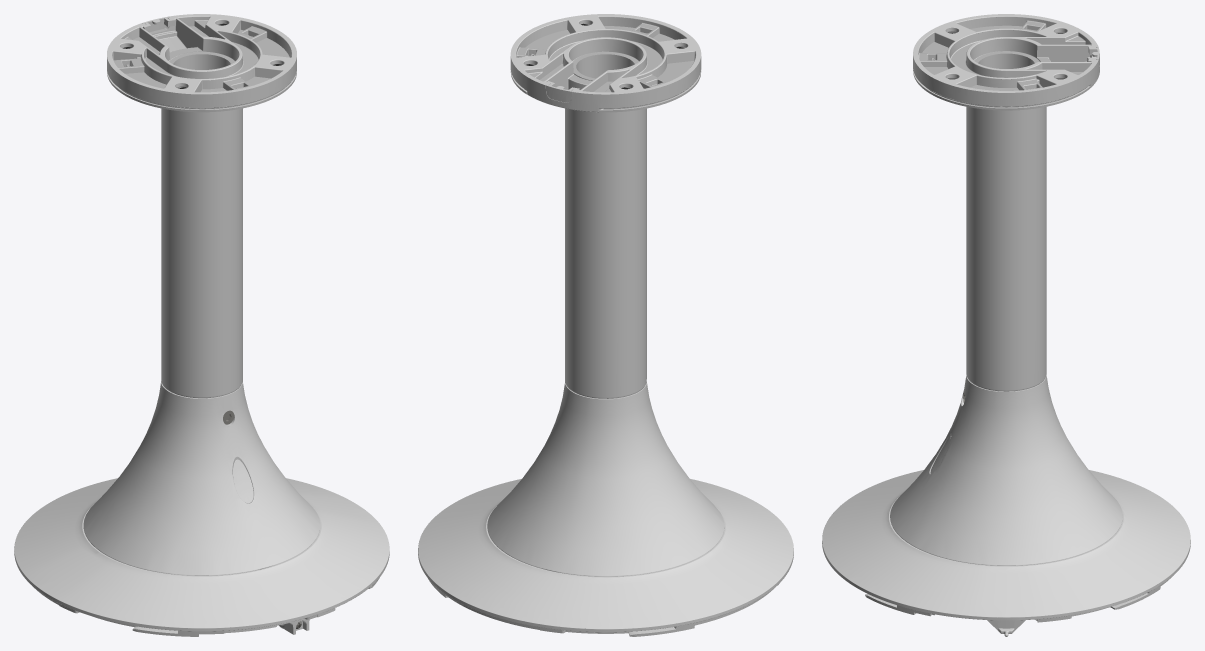
Rendered from uacc-ai-ms-4-pm.glb.
3 renders of one model, left to right at view 1: azimuth 30°, elevation 25°; view 2: azimuth 150°, elevation 25°; view 3: azimuth 270°, elevation 25°, orthographic.
Parts seen in each view (by area): view 1: CurvedCone, MetalAdapter, MetalPipe, MS_4_PM_METAL_WALL_COVER_20250901, BASE_BACK_POGO_UBNT_35_stp_STEP, top_deco_cover, Rubber Screw Hole Cap_remesh; view 2: CurvedCone, MetalAdapter, MetalPipe, MS_4_PM_METAL_WALL_COVER_20250901, BASE_BACK_POGO_UBNT_35_stp_STEP, top_deco_cover; view 3: CurvedCone, MetalAdapter, MetalPipe, MS_4_PM_METAL_WALL_COVER_20250901, BASE_BACK_POGO_UBNT_35_stp_STEP, top_deco_cover.
Boxes of the visible parts, left/top/right/bottom form: CurvedCone: left=83, top=381, right=320, bottom=575; MetalAdapter: left=14, top=478, right=389, bottom=631; MetalPipe: left=161, top=51, right=242, bottom=398; MS_4_PM_METAL_WALL_COVER_20250901: left=107, top=14, right=296, bottom=108; BASE_BACK_POGO_UBNT_35_stp_STEP: left=32, top=578, right=379, bottom=636; top_deco_cover: left=107, top=35, right=296, bottom=112; Rubber Screw Hole Cap_remesh: left=232, top=459, right=253, bottom=503; CurvedCone: left=487, top=381, right=724, bottom=576; MetalAdapter: left=418, top=479, right=793, bottom=632; MetalPipe: left=565, top=52, right=646, bottom=398; MS_4_PM_METAL_WALL_COVER_20250901: left=510, top=14, right=701, bottom=112; BASE_BACK_POGO_UBNT_35_stp_STEP: left=428, top=579, right=779, bottom=636; top_deco_cover: left=510, top=54, right=701, bottom=112; CurvedCone: left=890, top=375, right=1122, bottom=565; MetalAdapter: left=822, top=470, right=1190, bottom=620; MetalPipe: left=966, top=51, right=1046, bottom=391; MS_4_PM_METAL_WALL_COVER_20250901: left=913, top=14, right=1099, bottom=106; BASE_BACK_POGO_UBNT_35_stp_STEP: left=865, top=576, right=1172, bottom=636; top_deco_cover: left=913, top=58, right=1090, bottom=110.
Size of the model in its own units: 0.2531 by 0.3901 by 0.2531.
Materials: 3 (2 with a texture image).
